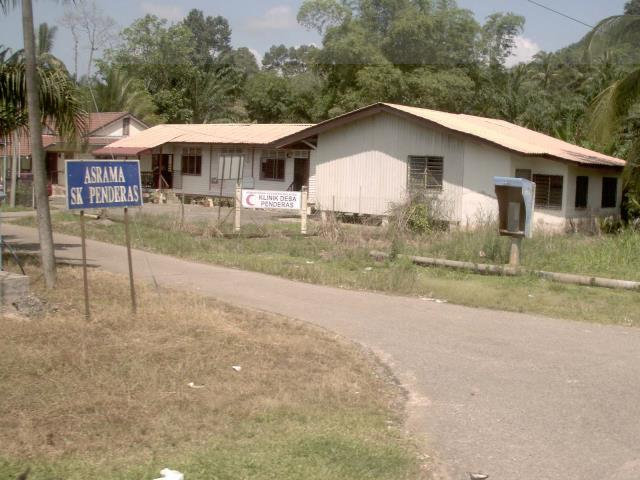ads_sign: (57, 148, 150, 218), (235, 183, 305, 213)
